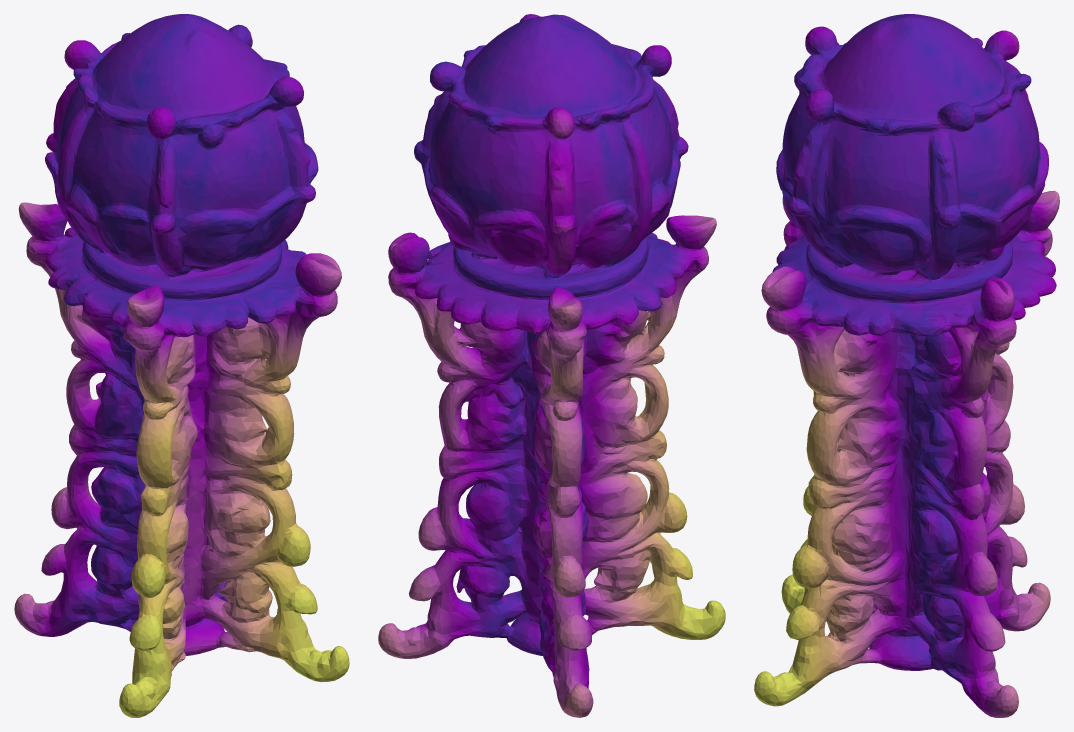
The model's file is iter_5.glb.
3 views of the same model, side by side, from view 1: azimuth 30°, elevation 25°; view 2: azimuth 150°, elevation 25°; view 3: azimuth 270°, elevation 25° (orthographic). The views are drawn at different scales.
Visible parts, largest first — view 1: textured_mesh; view 2: textured_mesh; view 3: textured_mesh.
Boxes of the visible parts, x1,y1,x2,y2 form: textured_mesh: [14, 14, 349, 717]; textured_mesh: [378, 14, 725, 717]; textured_mesh: [754, 14, 1059, 717].
Bounding box in the file's own units: 0.7895 × 1.99 × 0.847.
